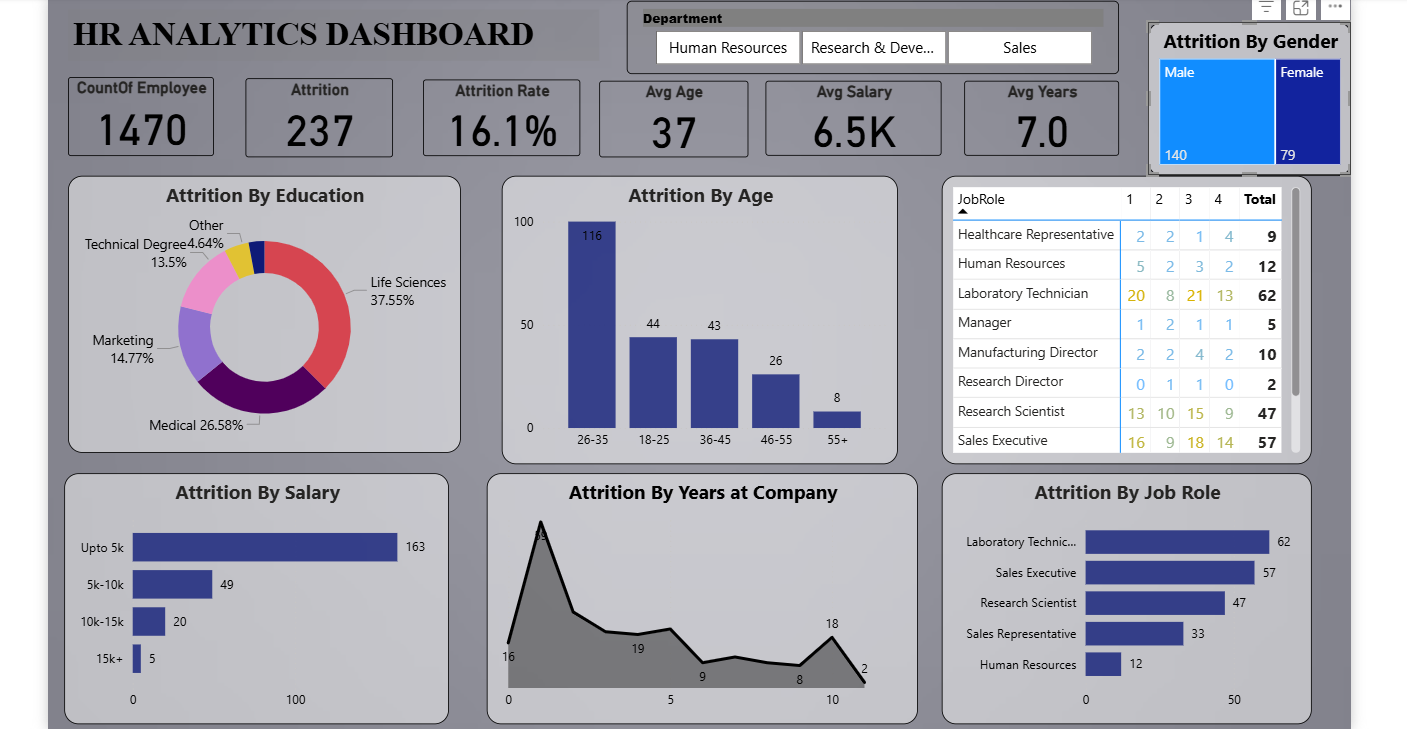

What the dashboard file says about the page in this screenshot:
{"tool":"powerbi","page":{"name":"Page 1","canvas":[1280,720],"ordinal":0},"visuals":[{"type":"card","title":"CountOf Employee","fields":{"Values":["Count(HR_Analytics.EmpID)"]},"box":[19.6,78.5,143.6,77.3],"z":0},{"type":"card","title":"Attrition","fields":{"Values":["Sum(HR_Analytics.AttritionCount)"]},"box":[193.9,79.8,144.8,77.3],"z":1000},{"type":"card","title":"Attrition Rate","fields":{"Values":["HR_Analytics.AttritionRate"]},"box":[368.1,81,154.6,74.8],"z":2000},{"type":"card","title":"Avg Age","fields":{"Values":["Avg(HR_Analytics.Age)"]},"box":[541.1,82.2,146,74.8],"z":3000},{"type":"card","title":"Avg Salary","fields":{"Values":["Avg(HR_Analytics.MonthlyIncome)"]},"box":[704.3,82.2,173,73.6],"z":4000},{"type":"card","title":"Avg Years","fields":{"Values":["Avg(HR_Analytics.YearsAtCompany)"]},"box":[899.4,82.2,152.1,73.6],"z":5000},{"type":"donutChart","title":"Attrition By Education","fields":{"Category":["HR_Analytics.EducationField"],"Y":["Sum(HR_Analytics.AttritionCount)"]},"box":[19.6,175.5,385.3,272.4],"z":6000},{"type":"columnChart","title":"Attrition By Age","fields":{"Category":["HR_Analytics.AgeGroup"],"Y":["Sum(HR_Analytics.AttritionCount)"]},"box":[445.4,175.5,389,283.4],"z":7000},{"type":"pivotTable","fields":{"Columns":["HR_Analytics.JobSatisfaction"],"Rows":["HR_Analytics.JobRole"],"Values":["Sum(HR_Analytics.AttritionCount)"]},"box":[877.3,175.5,363.2,283.4],"z":8000},{"type":"barChart","title":"Attrition By Salary","fields":{"Category":["HR_Analytics.SalarySlab"],"Y":["Sum(HR_Analytics.AttritionCount)"]},"box":[16,467.5,377.9,246.6],"z":9000},{"type":"barChart","title":"Attrition By Job Role","fields":{"Category":["HR_Analytics.JobRole"],"Y":["Sum(HR_Analytics.AttritionCount)"]},"box":[877.3,467.5,363.2,246.6],"z":10000},{"type":"areaChart","title":"Attrition By Years at Company","fields":{"Category":["HR_Analytics.YearsAtCompany"],"Y":["Sum(HR_Analytics.AttritionCount)"]},"box":[430.7,467.5,423.3,246.6],"z":11000},{"type":"treemap","title":"Attrition By Gender","fields":{"Group":["HR_Analytics.Gender"],"Values":["Sum(HR_Analytics.AttritionCount)"]},"box":[1079.8,24.5,200,150.9],"z":12000},{"type":"slicer","fields":{"Values":["HR_Analytics.Department"]},"box":[568.1,3.7,483.4,72.4],"z":13000},{"type":"textbox","box":[19.2,12.3,521.4,50.8],"z":14000}]}

Visuals, with their boxes in screenshot pixels (x1, y1, x2, y2):
"CountOf Employee" card: 46/74/195/154
"Attrition" card: 226/75/376/155
"Attrition Rate" card: 407/77/567/154
"Avg Age" card: 586/78/737/155
"Avg Salary" card: 755/78/934/154
"Avg Years" card: 957/78/1114/154
"Attrition By Education" donutChart: 46/174/445/456
"Attrition By Age" columnChart: 487/174/890/468
pivotTable - HR_Analytics.JobSatisfaction x HR_Analytics.JobRole: 934/174/1310/468
"Attrition By Salary" barChart: 42/477/433/728
"Attrition By Job Role" barChart: 934/477/1310/728
"Attrition By Years at Company" areaChart: 472/477/910/728
"Attrition By Gender" treemap: 1144/18/1351/174
slicer - HR_Analytics.Department: 614/0/1114/71
textbox: 46/5/585/58
